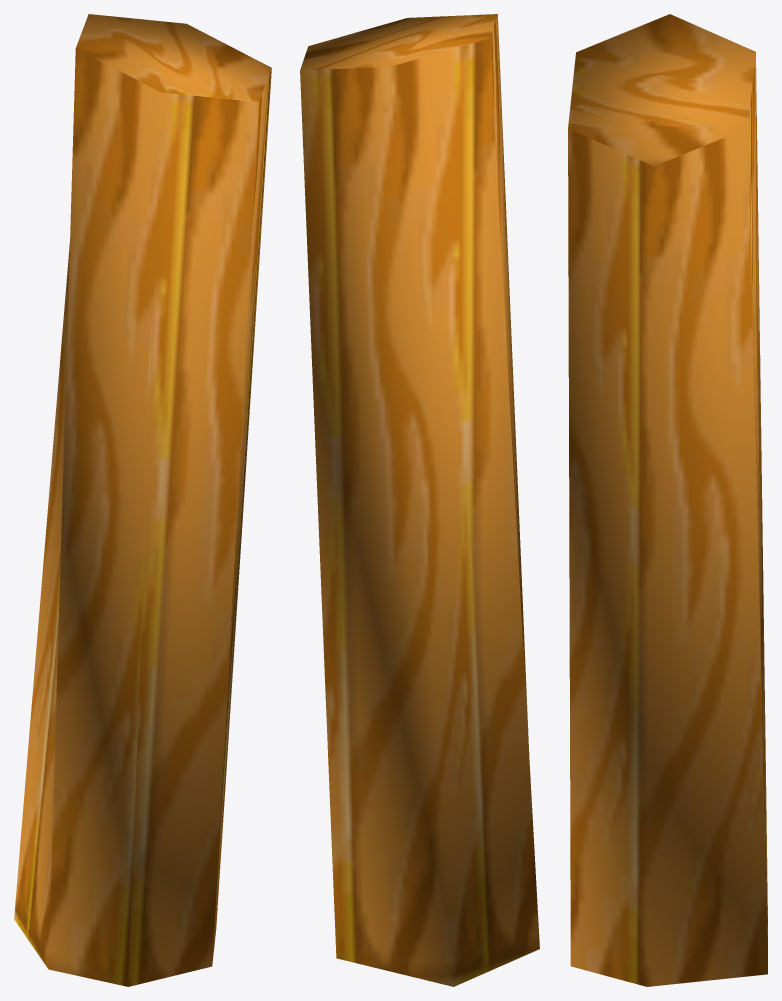
Rendered from fence_wood_end.fbx.
The picture shows the model from 3 angles, left to right: view 1: azimuth 30°, elevation 25°; view 2: azimuth 150°, elevation 25°; view 3: azimuth 270°, elevation 25°; orthographic projection.
Visible parts, largest first — view 1: Cylinder; view 2: Cylinder; view 3: Cylinder.
Part boxes in pixels (left/top/right/bottom): Cylinder: left=14, top=14, right=271, bottom=986; Cylinder: left=300, top=14, right=539, bottom=986; Cylinder: left=568, top=14, right=767, bottom=986.
Size of the model in its own units: 0.2628 by 1 by 0.1993.
